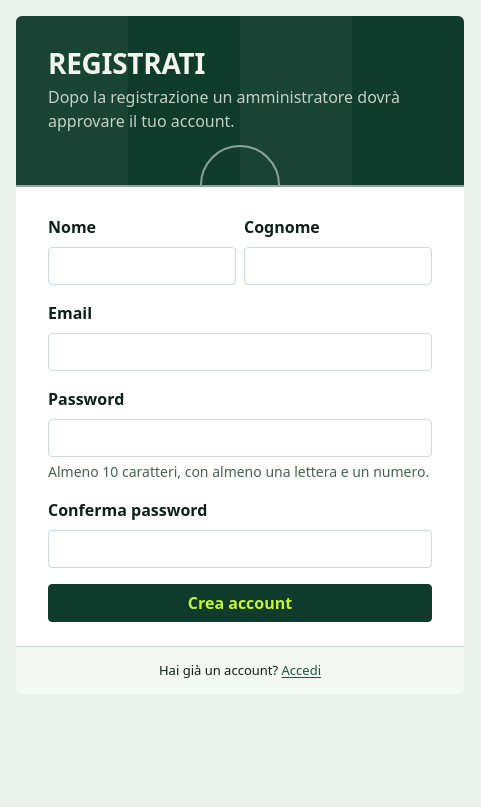
it: RegisterPage › applica le stesse regole della password del backend e controlla la conferma
The width and height of the screenshot is (481, 807).
In the password field labelled "Password": [240, 438] box [48,419,432,457], type "corta"
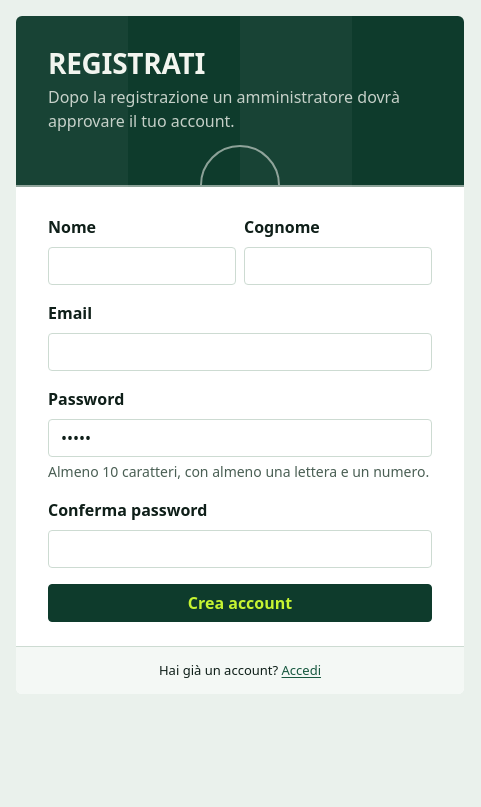
In the password field labelled "Conferma password": [240, 549] box [48,530,432,568], type "diversa"
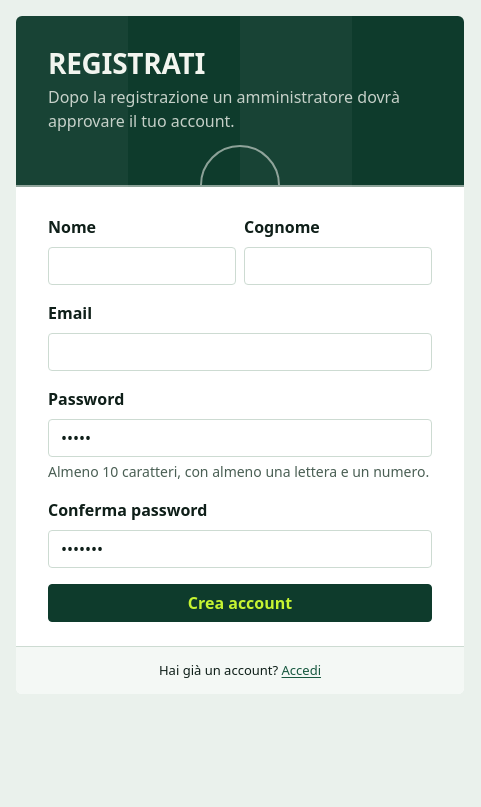
Click the button "Crea account": [240, 603] box [48,584,432,622]
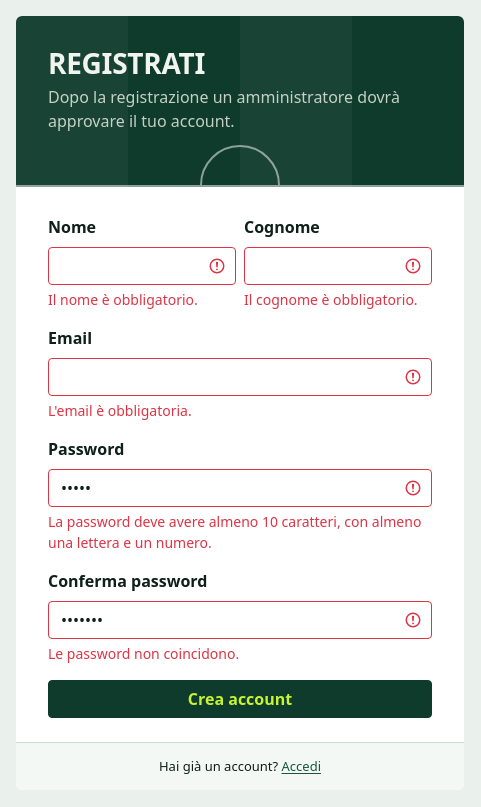
Expected: the text "almeno 10 caratteri" is shown, [48,512,421,552]
Expected: the text "Le password non coincidono." is shown, [48,644,239,663]
